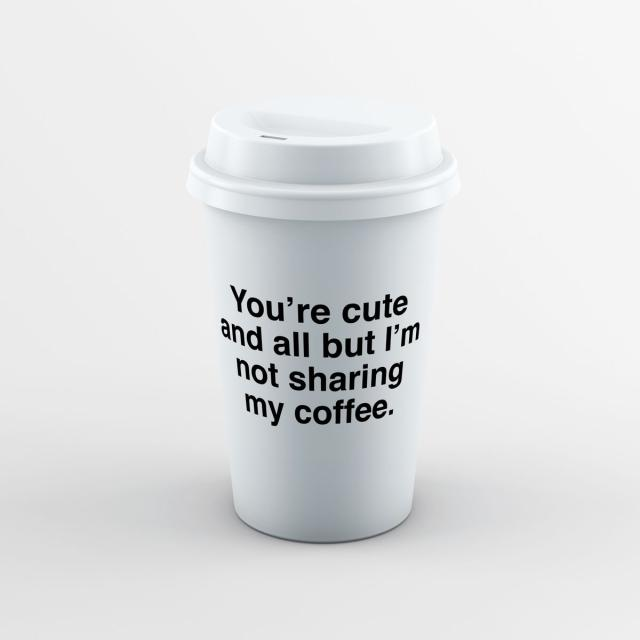paper cup: (187, 96, 460, 544)
